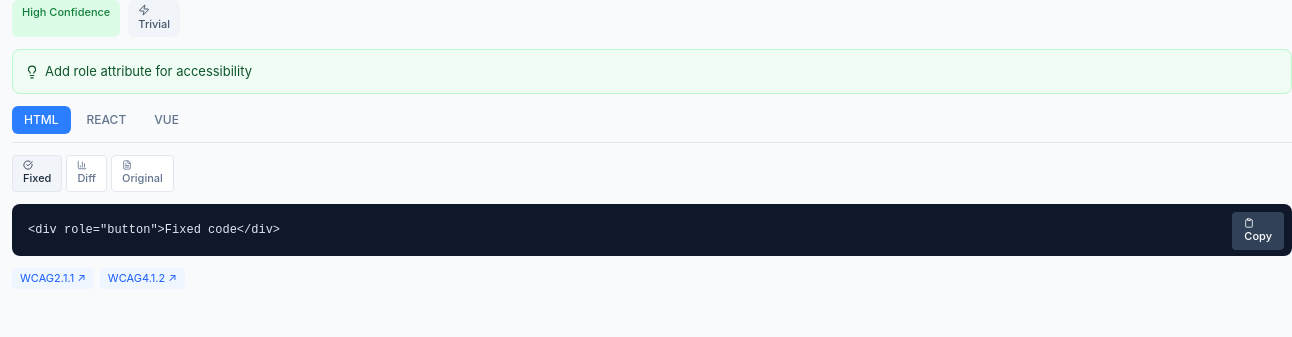
Test case: findings/FixCodePreview › renders diff view with default styling for context lines
What coordinates should you click on to do the following:
click the button "Diff"
I would click on:
 (87, 173)
Its box is [66,155,107,192].
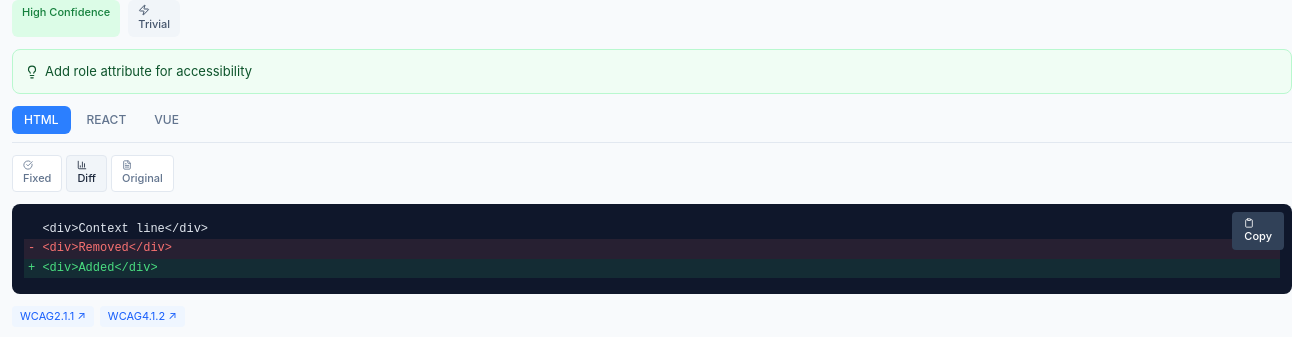
Now the text "<div>Context line</div>" is shown, box [28,222,208,236]
